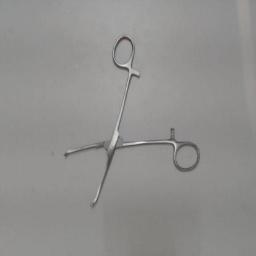Allis Tissue Forceps: (56, 28, 206, 214)
